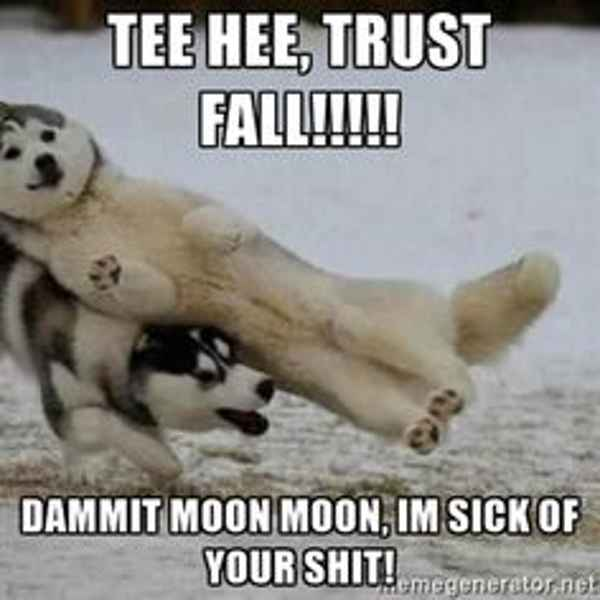doge: (122, 314, 277, 445), (1, 101, 101, 211)
